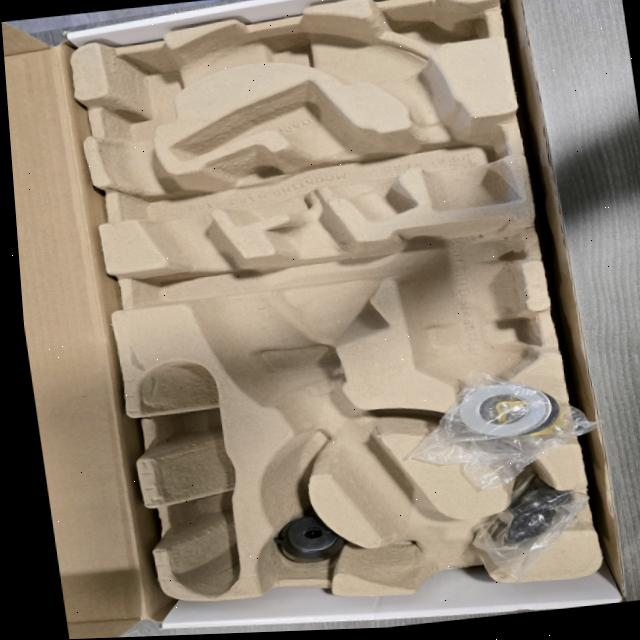1m: (104, 16, 520, 593)
2m: (168, 80, 416, 221)
3m: (394, 212, 539, 415)
4m: (142, 361, 239, 597)
5: (272, 515, 340, 566)
6: (406, 370, 606, 492)
7: (468, 474, 591, 585)
